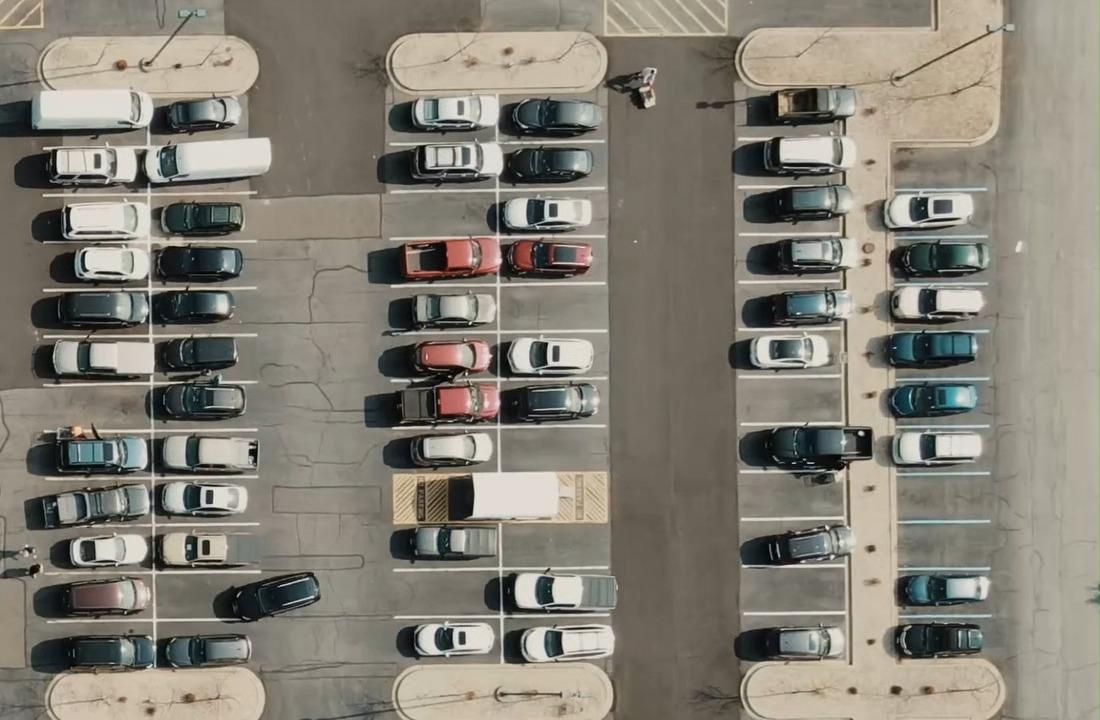car: (142, 136, 272, 184), (483, 570, 618, 613), (212, 570, 321, 622), (731, 133, 856, 177), (30, 88, 153, 131), (39, 482, 150, 528), (739, 521, 855, 565), (376, 141, 490, 185), (384, 291, 497, 334), (398, 235, 502, 280), (746, 235, 860, 275), (743, 183, 854, 224), (395, 381, 500, 424), (733, 622, 845, 662), (503, 623, 615, 663), (159, 431, 259, 474), (42, 143, 139, 187), (143, 381, 246, 422), (388, 94, 492, 134), (485, 196, 592, 234), (501, 381, 600, 422), (505, 96, 602, 137), (728, 333, 834, 370), (889, 240, 990, 278), (60, 575, 150, 617), (396, 621, 495, 659), (502, 238, 593, 279), (500, 145, 593, 185), (883, 329, 978, 368), (54, 435, 148, 474), (504, 336, 595, 376), (889, 284, 984, 322), (882, 190, 974, 229), (153, 243, 243, 282), (60, 200, 147, 240), (405, 524, 497, 561), (891, 429, 982, 466), (893, 621, 983, 658), (157, 480, 247, 517), (887, 382, 978, 418), (151, 287, 235, 326), (408, 338, 493, 376), (896, 572, 990, 606), (408, 431, 493, 468), (158, 334, 238, 373), (67, 531, 150, 568), (159, 200, 244, 236), (165, 95, 242, 134), (73, 245, 149, 283)
